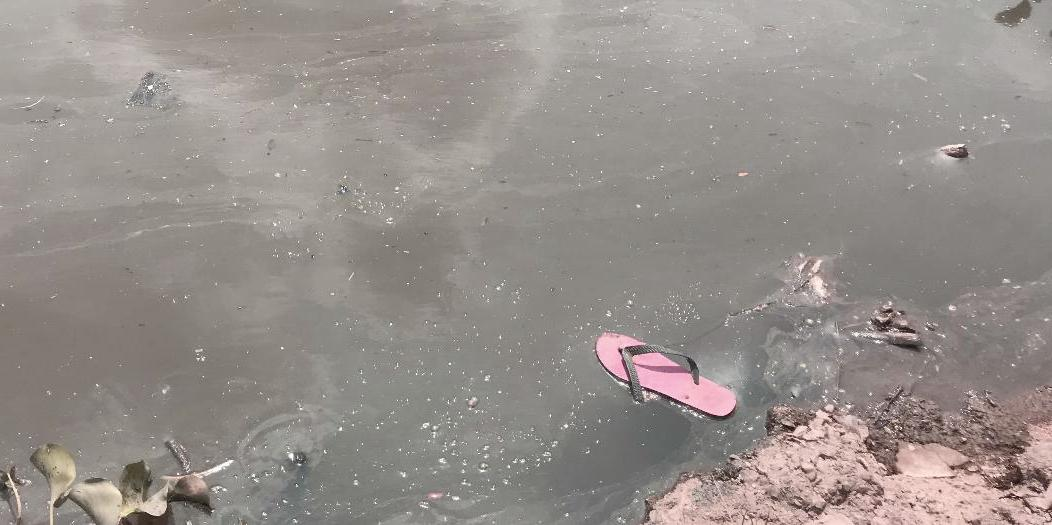Trash: (585, 327, 746, 421)
